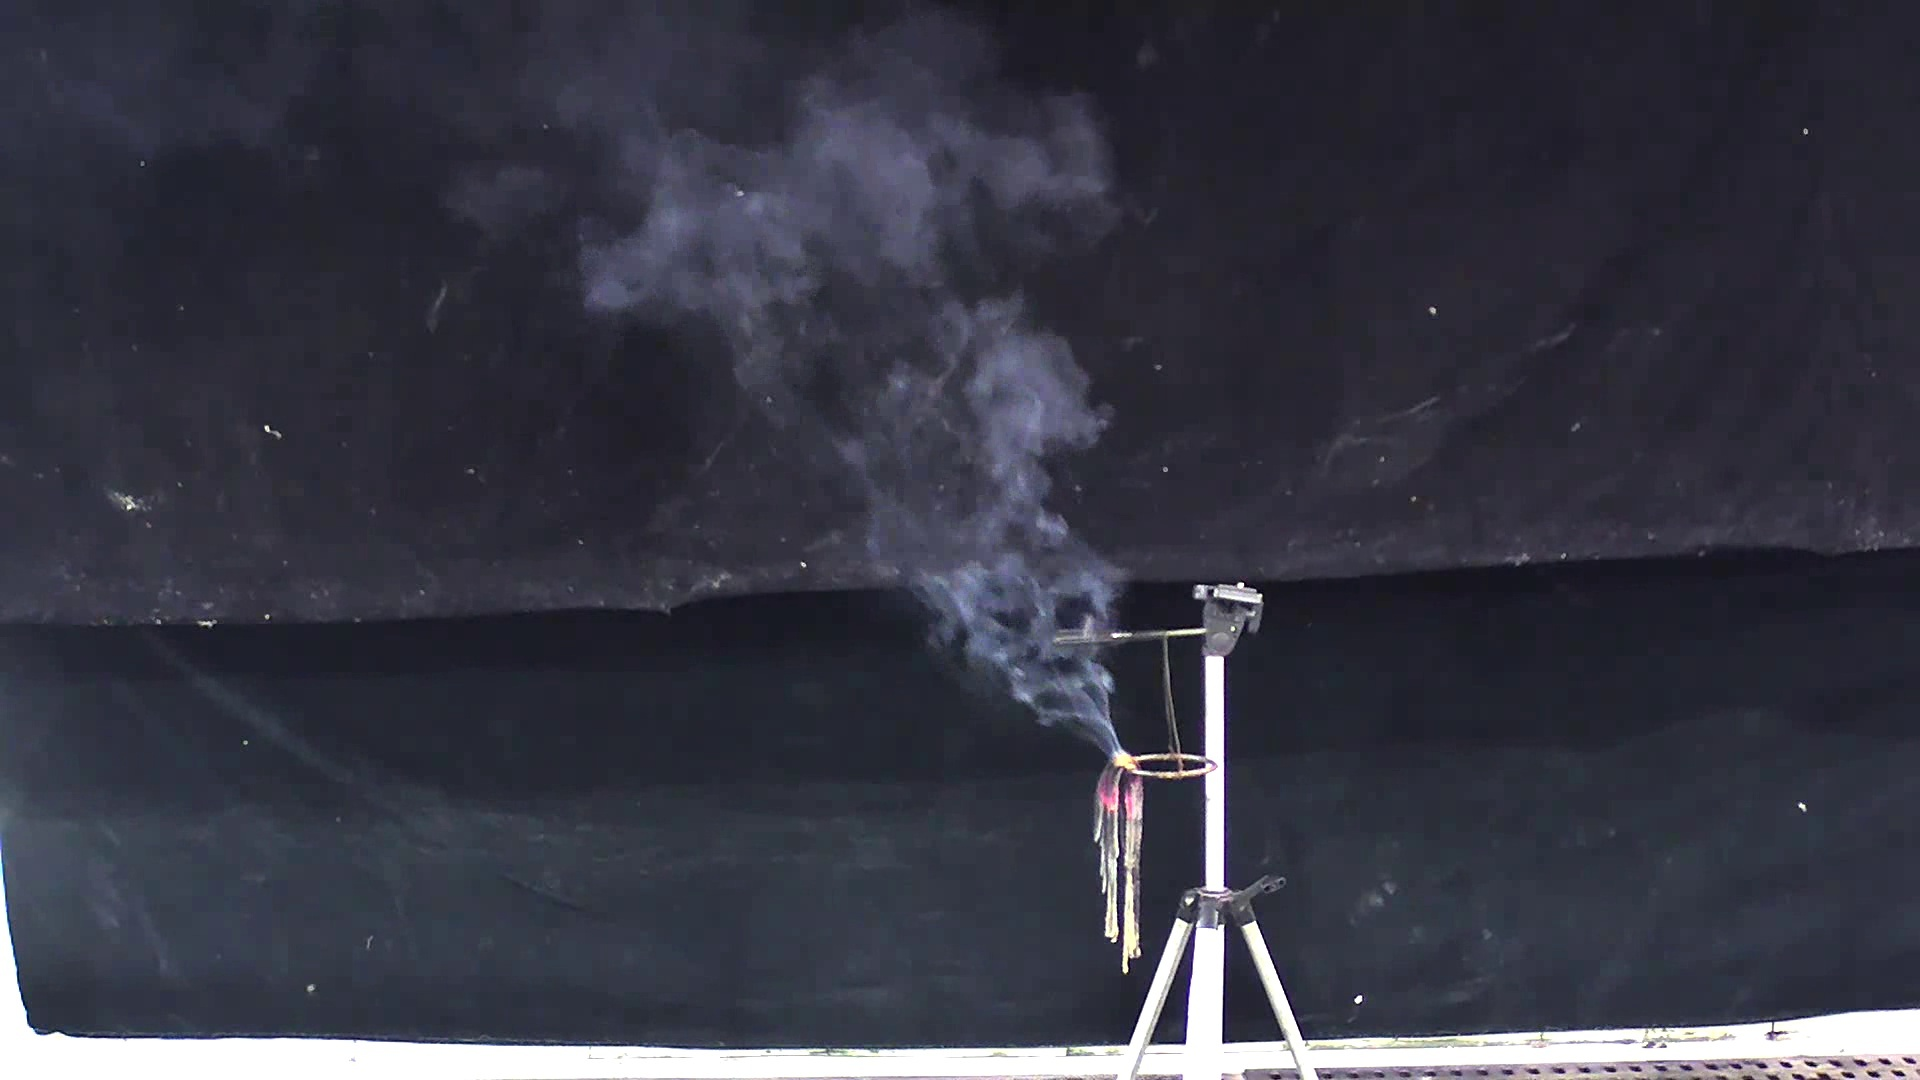smoke: (495, 20, 1168, 757)
